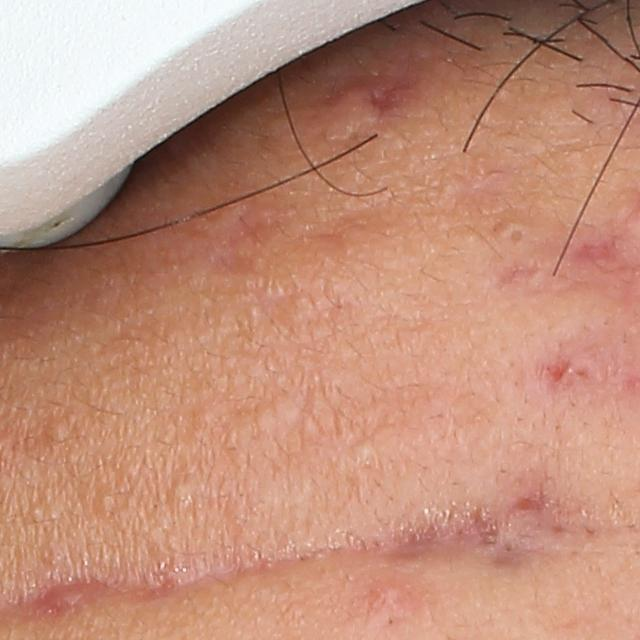comedo: (348, 433, 377, 462), (44, 415, 75, 442), (172, 474, 195, 500), (505, 224, 531, 245), (94, 490, 115, 508), (27, 505, 45, 523)
